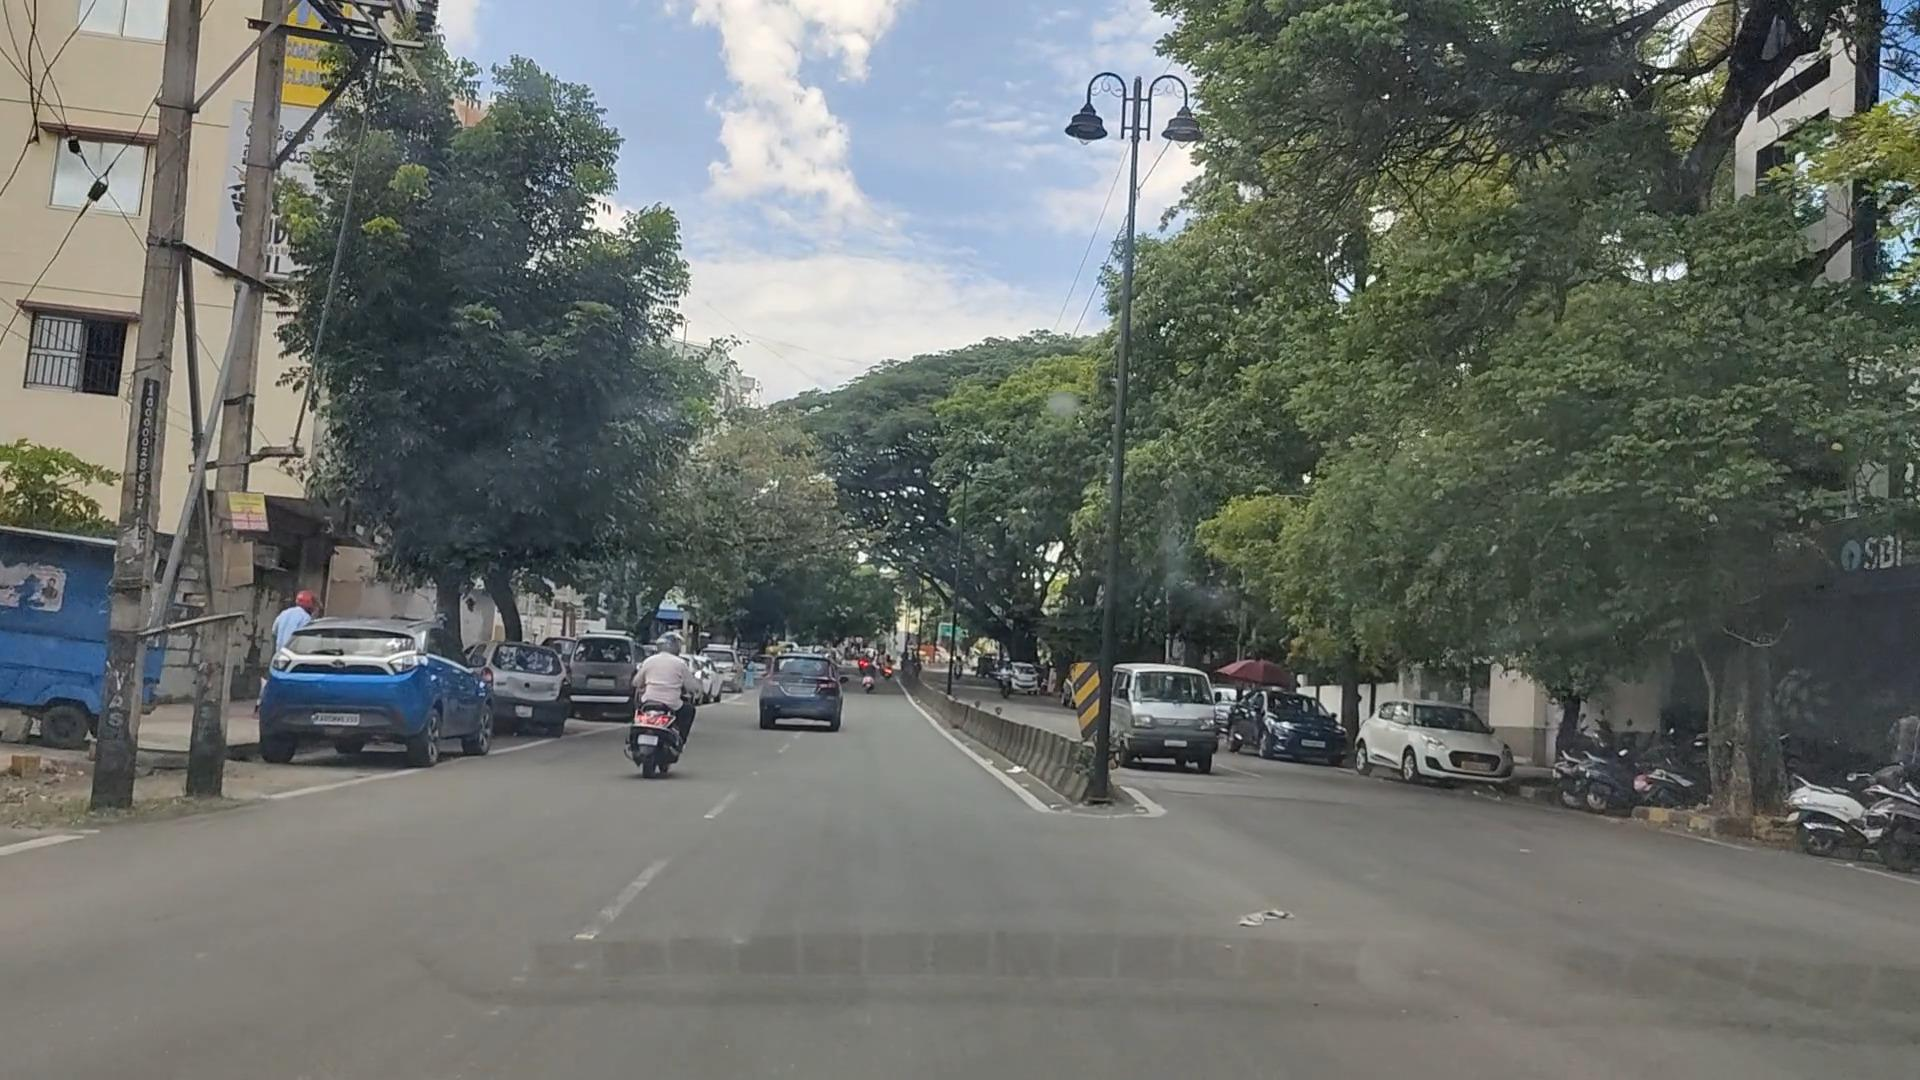LMV: (293, 618, 516, 793), (630, 638, 703, 790), (753, 655, 852, 742)
